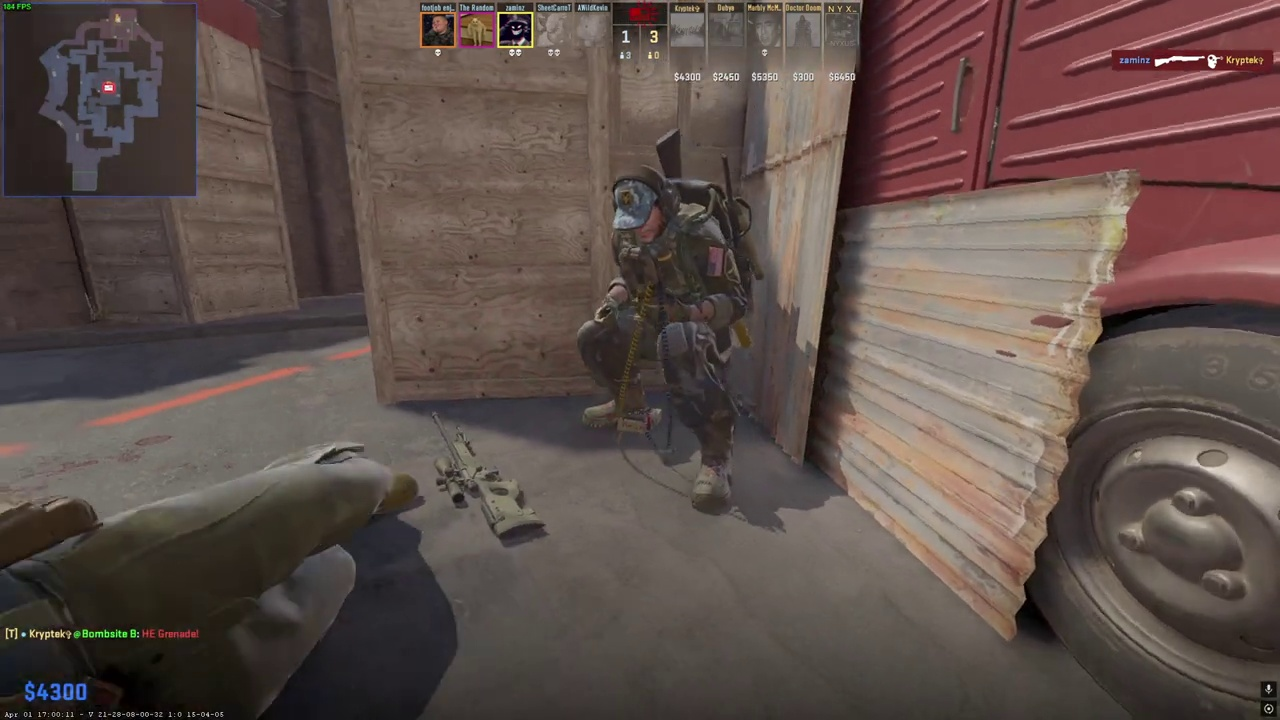CT: (575, 165, 750, 509)
